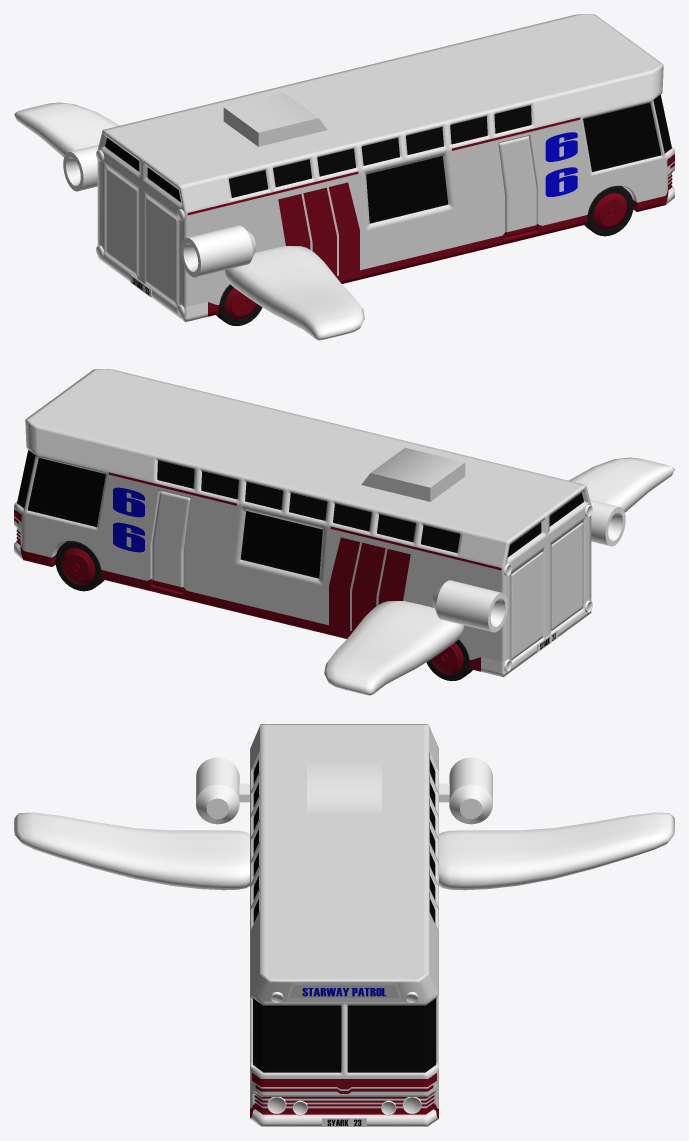
Rendered from Bus.fbx.
3 views of the same model, one above another, from view 1: azimuth 30°, elevation 25°; view 2: azimuth 150°, elevation 25°; view 3: azimuth 270°, elevation 25° (orthographic). The views are drawn at different scales.
Visible parts, largest first — view 1: bus_low, wings_low, rocket_low, roofbox_low, wheels_low, Text; view 2: bus_low, wings_low, rocket_low, roofbox_low, wheels_low, Text.001; view 3: bus_low, wings_low, rocket_low, roofbox_low, grill_low, lamps_low.
Part boxes in pixels (bbox=[...]): bus_low: bbox=[97, 14, 674, 322]; wings_low: bbox=[14, 102, 364, 340]; rocket_low: bbox=[63, 144, 256, 277]; roofbox_low: bbox=[223, 92, 327, 146]; wheels_low: bbox=[216, 186, 633, 325]; Text: bbox=[545, 132, 577, 196]; bus_low: bbox=[14, 369, 591, 677]; wings_low: bbox=[324, 457, 674, 695]; rocket_low: bbox=[432, 499, 625, 632]; roofbox_low: bbox=[361, 447, 465, 501]; wheels_low: bbox=[55, 541, 472, 680]; Text.001: bbox=[113, 487, 144, 552]; bus_low: bbox=[250, 724, 438, 1126]; wings_low: bbox=[14, 812, 674, 890]; rocket_low: bbox=[196, 757, 492, 824]; roofbox_low: bbox=[307, 761, 381, 812]; grill_low: bbox=[254, 1093, 434, 1113]; lamps_low: bbox=[267, 992, 421, 1115].
Size of the model in its own units: 1679 by 524 by 1764.
